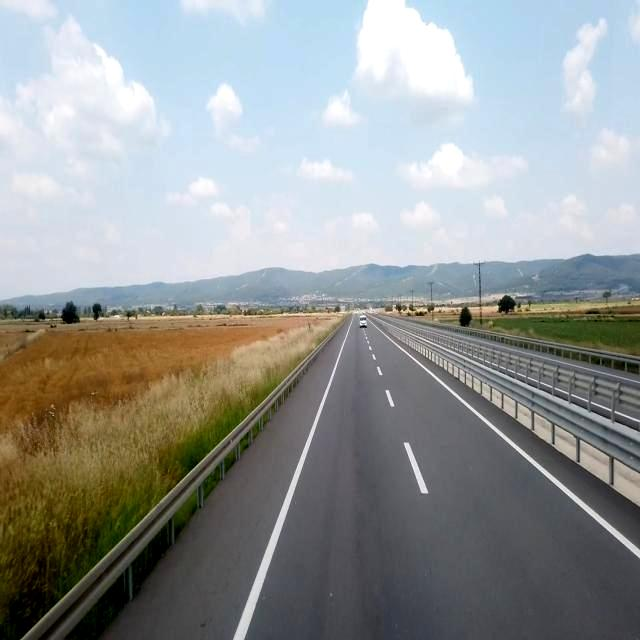road: (99, 317, 639, 639)
